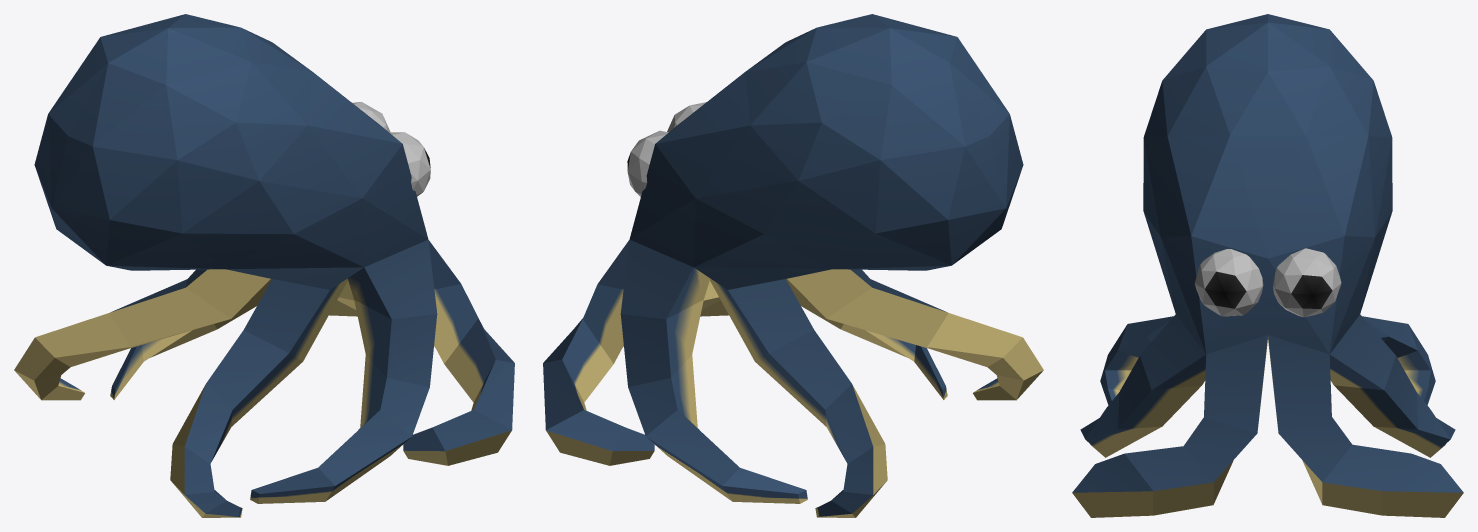
Rendered from octopus.glb.
The picture shows the model from 3 angles, left to right: view 1: azimuth 30°, elevation 25°; view 2: azimuth 150°, elevation 25°; view 3: azimuth 270°, elevation 25°; orthographic projection. The views are drawn at different scales.
Parts seen in each view (by area): view 1: octopus_merged; view 2: octopus_merged; view 3: octopus_merged.
Boxes of the visible parts, x1,y1,x2,y2 form: octopus_merged: [14, 14, 514, 517]; octopus_merged: [543, 14, 1043, 517]; octopus_merged: [1072, 14, 1463, 517].
Size of the model in its own units: 3.49 by 3.55 by 3.13.
Materials: 3 (3 with a texture image).
